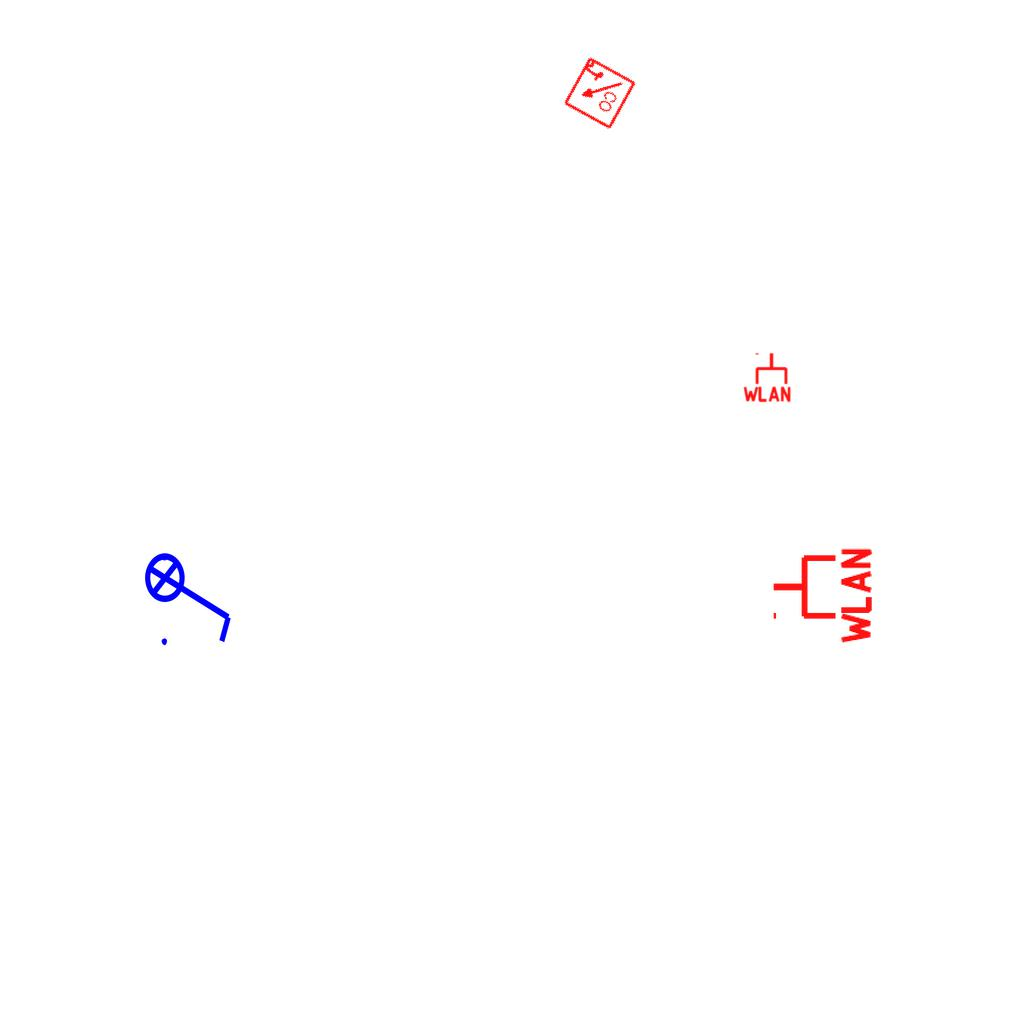Ausschalter_beleuchtet: (143, 539, 239, 651)
ROA_Rauchmelder_optisch_mit_Signalgeber_(Sockelsirene): (560, 54, 638, 132)
WLAN: (769, 544, 874, 648), (741, 351, 793, 403)
